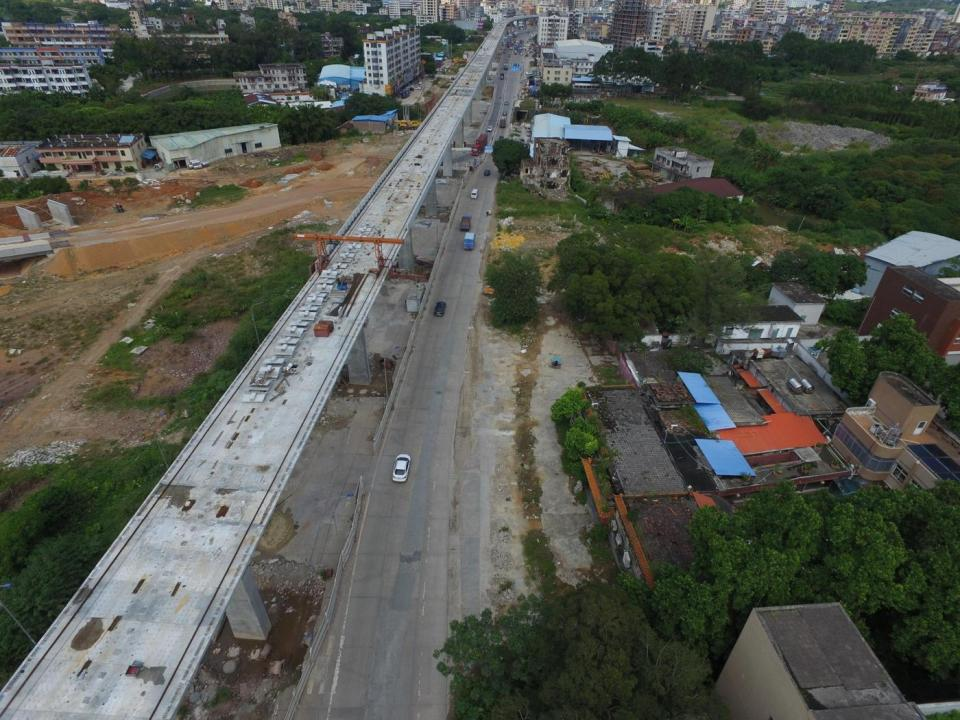car: (392, 455, 410, 483), (434, 300, 447, 317), (484, 170, 490, 176), (487, 125, 492, 131), (526, 126, 530, 132), (502, 111, 506, 115), (505, 102, 508, 106)
truck: (471, 133, 488, 155), (464, 232, 475, 250), (460, 216, 471, 231), (499, 116, 507, 127), (402, 88, 409, 98), (503, 62, 508, 70), (500, 72, 503, 80)
van: (471, 189, 477, 198)
